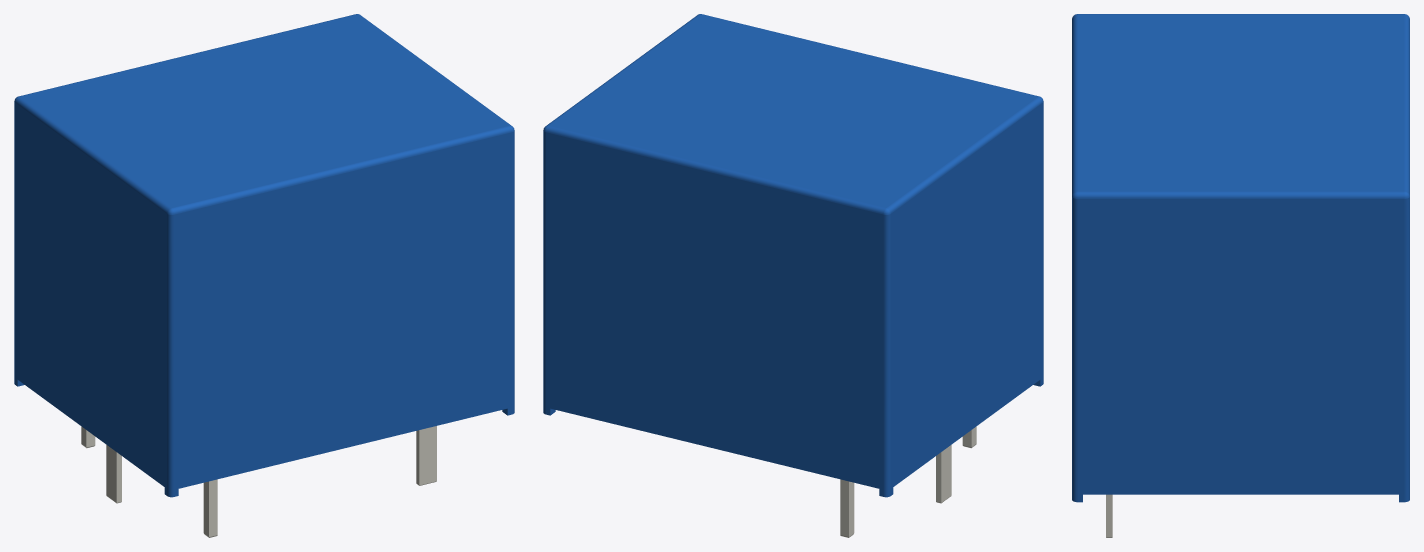
Rendered from kc-relay_spst_sanyou_srd_series_form_a.glb.
3 views of the same model, side by side, from view 1: azimuth 30°, elevation 25°; view 2: azimuth 150°, elevation 25°; view 3: azimuth 270°, elevation 25° (orthographic). The views are drawn at different scales.
Parts seen in each view (by area): view 1: 0_0.16666666666666666_0.5_0, 0.6666666666666666_0.6666666666666666_0.5833333333333334_0.8; view 2: 0_0.16666666666666666_0.5_0, 0.6666666666666666_0.6666666666666666_0.5833333333333334_0.8; view 3: 0_0.16666666666666666_0.5_0.
Part boxes in pixels (x1,y1,x2,y2): 0_0.16666666666666666_0.5_0: (14,14,514,497); 0.6666666666666666_0.6666666666666666_0.5833333333333334_0.8: (81,426,436,537); 0_0.16666666666666666_0.5_0: (543,14,1043,497); 0.6666666666666666_0.6666666666666666_0.5833333333333334_0.8: (840,426,976,537); 0_0.16666666666666666_0.5_0: (1072,14,1409,502).
Size of the model in its own units: 1.96 by 1.9 by 1.54.
